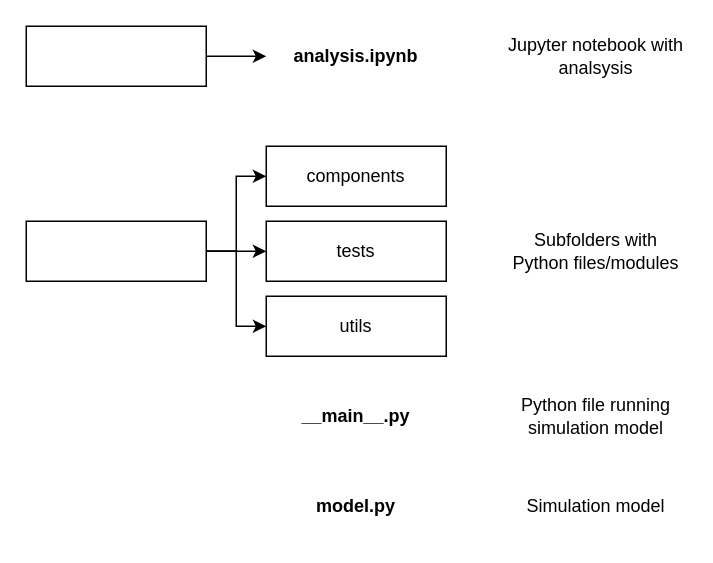
This 713x563 diagram has some shape labels left out. The centre of each missing label's shape, as x and y in pixels:
"notebooks" goes at (x=115, y=55).
"src" goes at (x=115, y=250).
